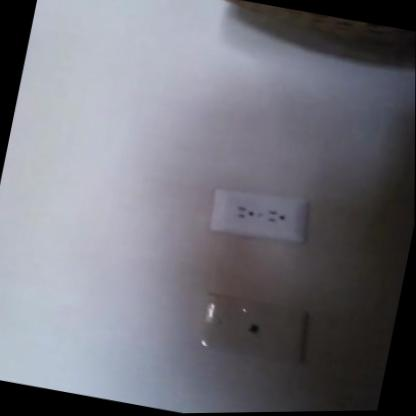OUTLET: (206, 183, 308, 246)
